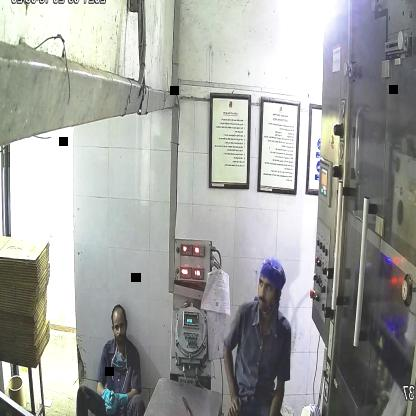no_goggles: (255, 274, 281, 295), (107, 318, 128, 336)
